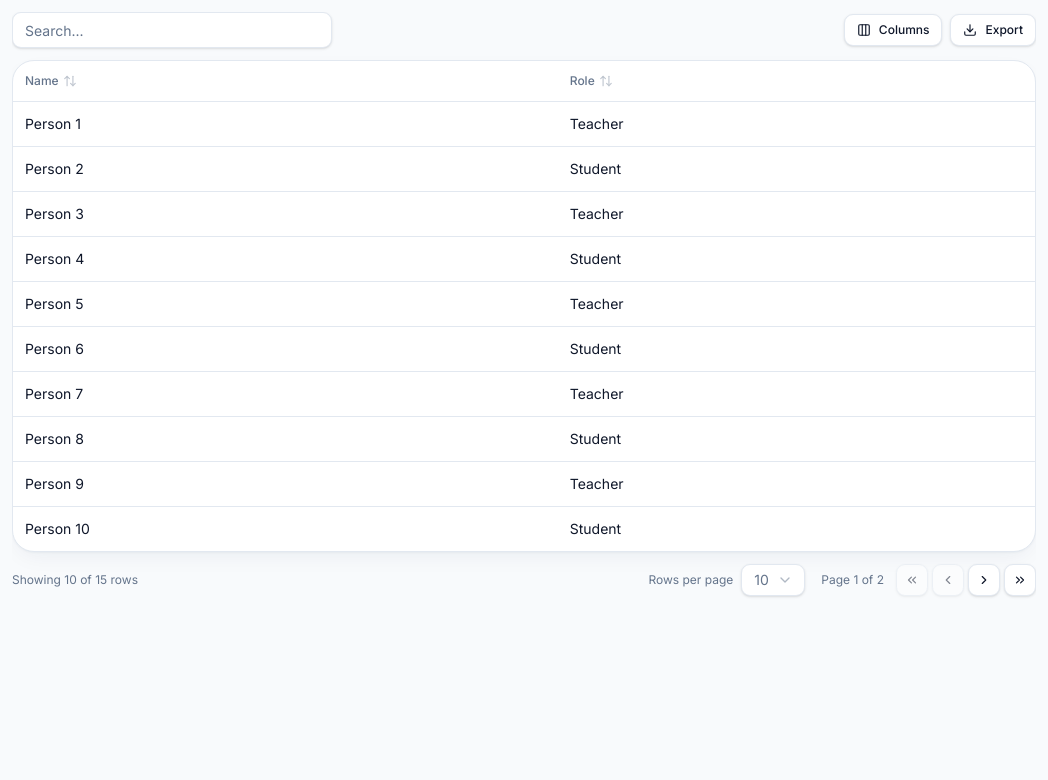
Test: DataTable — pagination › next-page button navigates forward and back button returns to page 1
The width and height of the screenshot is (1048, 780).
expect the 6th button is disabled: met, box [932, 564, 964, 596]
expect the 5th button is disabled: met, box [896, 564, 928, 596]
Click the 7th button. click: (984, 580)
box: [968, 564, 1000, 596]
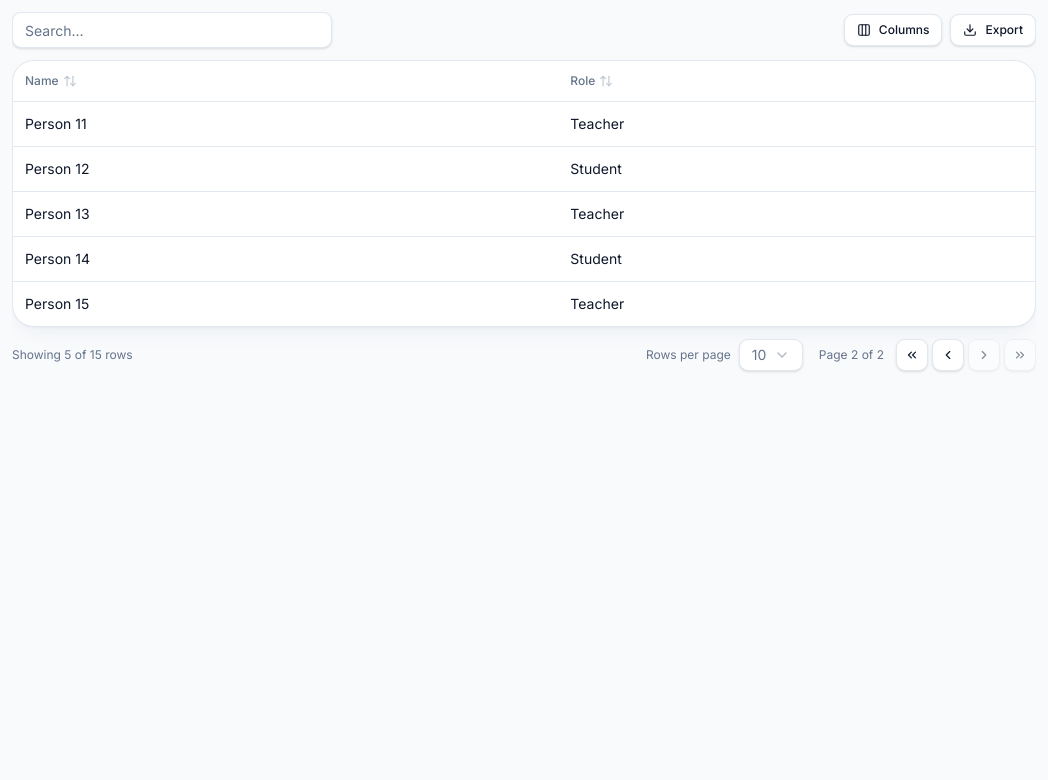
expect the 7th button is disabled: met, box [968, 338, 1000, 370]
expect the text "Page 2 of 2" is shown: met, box [819, 346, 884, 362]
expect the text "Person 11" is shown: met, box [13, 101, 558, 146]
Click the 6th button. click: (948, 354)
box: [932, 338, 964, 370]
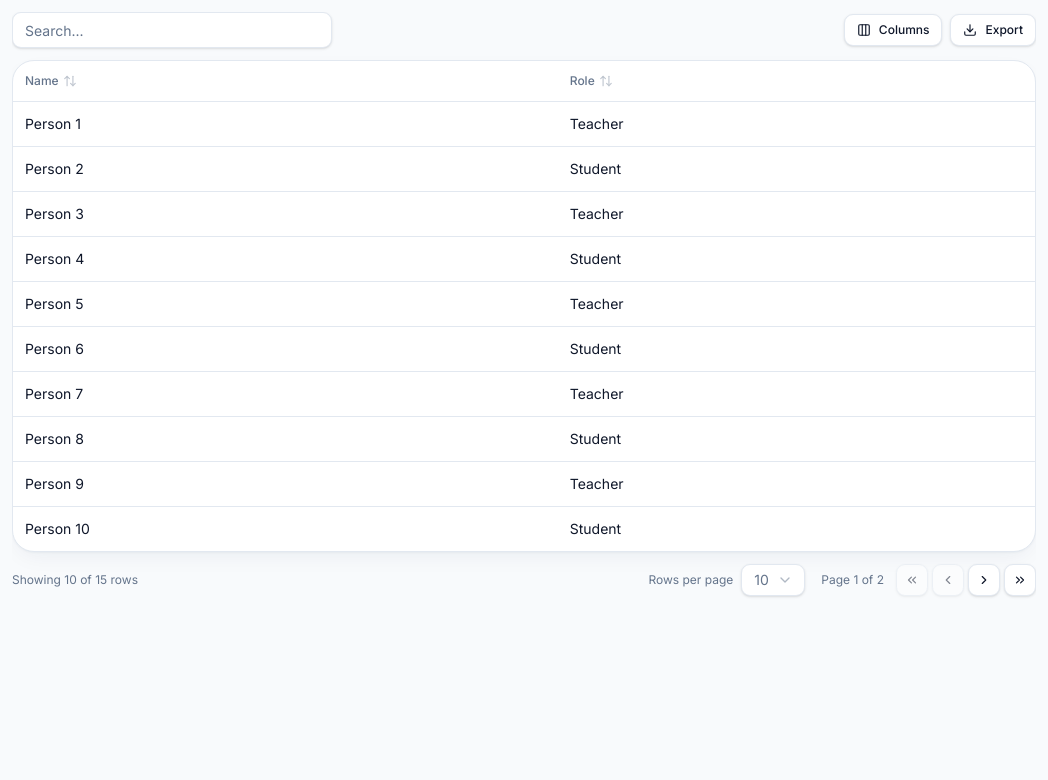
expect the text "Person 1" is shown: met, box [13, 101, 558, 146]
expect the text "Page 1 of 2" is shown: met, box [821, 572, 884, 588]
